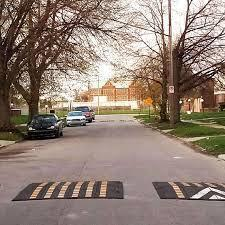speedbreaker: (15, 180, 123, 200), (152, 180, 225, 201)
